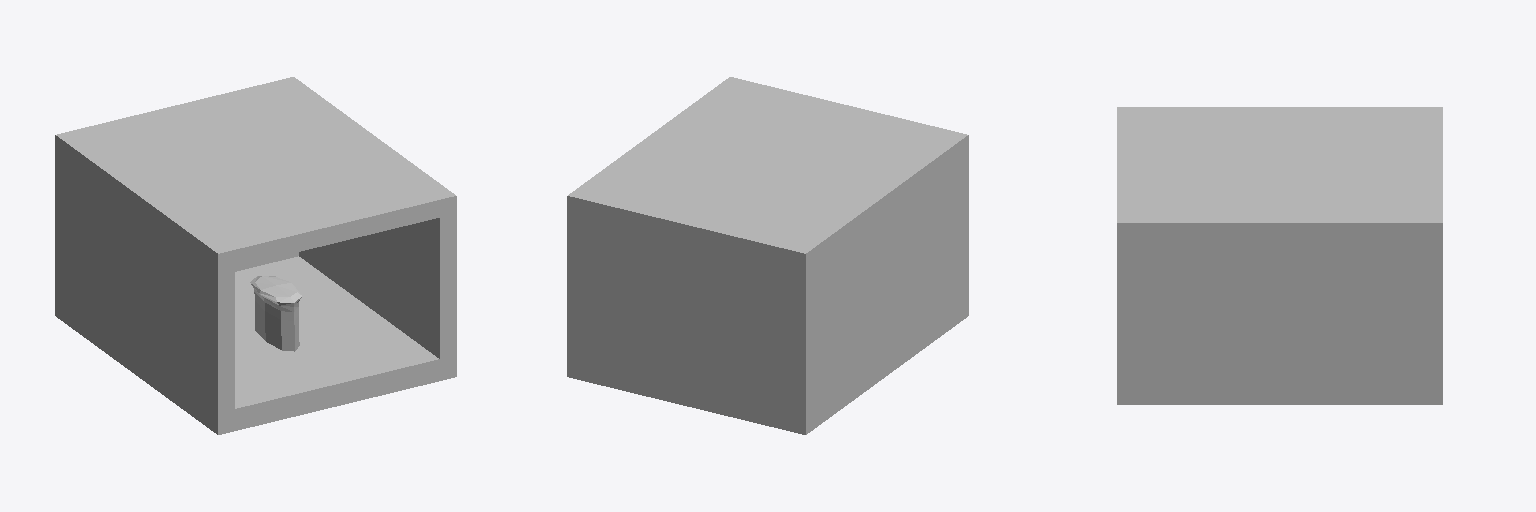
Rendered from testchamber.obj.
The picture shows the model from 3 angles: view 1: azimuth 30°, elevation 25°; view 2: azimuth 150°, elevation 25°; view 3: azimuth 270°, elevation 25°; orthographic projection.
Visible parts, largest first — view 1: Mesh; view 2: Mesh; view 3: Mesh.
Boxes of the visible parts, <box> form: Mesh: <box>55,77,456,434</box>; Mesh: <box>567,77,968,434</box>; Mesh: <box>1117,107,1442,404</box>.
Bounding box in the file's own units: 3.37 × 2.45 × 3.98.